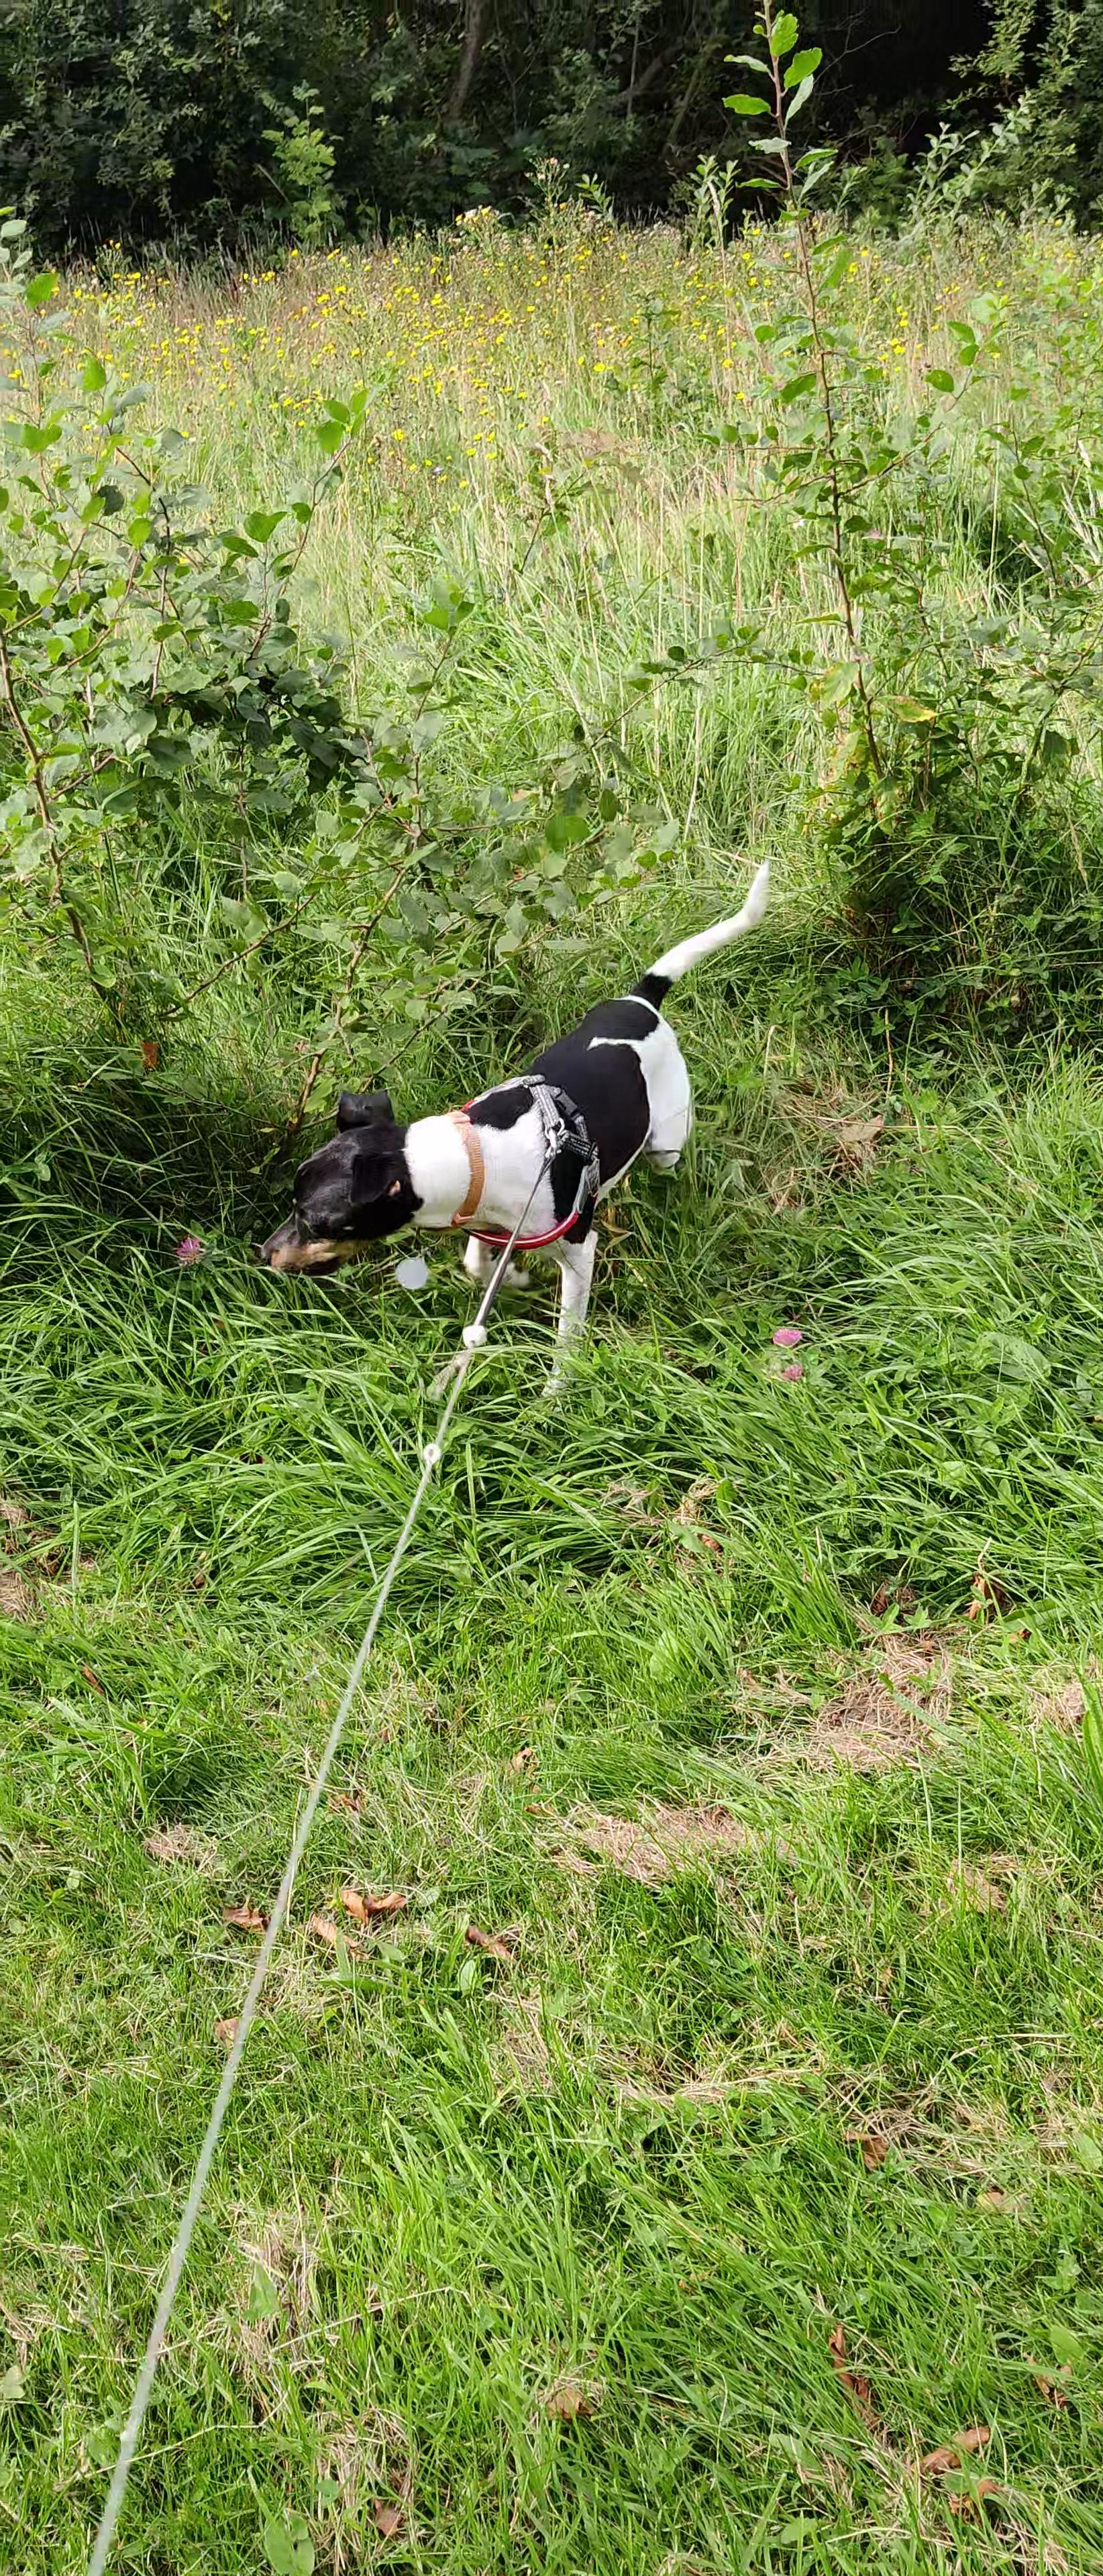Dog: (256, 848, 778, 1403)
